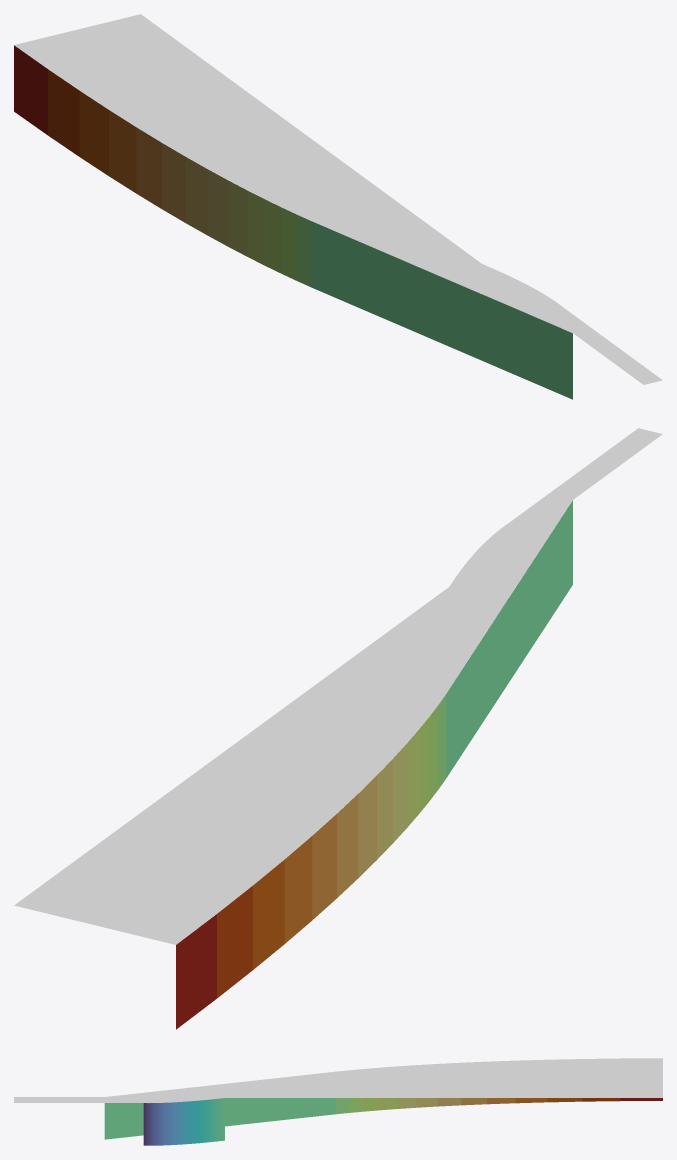
Rendered from scramjet_n14_m100.glb.
3 renders of one model, top to bottom at view 1: azimuth 30°, elevation 25°; view 2: azimuth 150°, elevation 25°; view 3: azimuth 270°, elevation 25°, orthographic. The views are drawn at different scales.
Visible parts, largest first — view 1: Renderer Node; view 2: Renderer Node; view 3: Renderer Node.
Boxes of the visible parts, x1=… form: Renderer Node: x1=14, y1=14, x2=662, y2=399; Renderer Node: x1=14, y1=428, x2=662, y2=1029; Renderer Node: x1=14, y1=1058, x2=662, y2=1145.
Size of the model in its own units: 1.13 by 0.5006 by 6.9.
